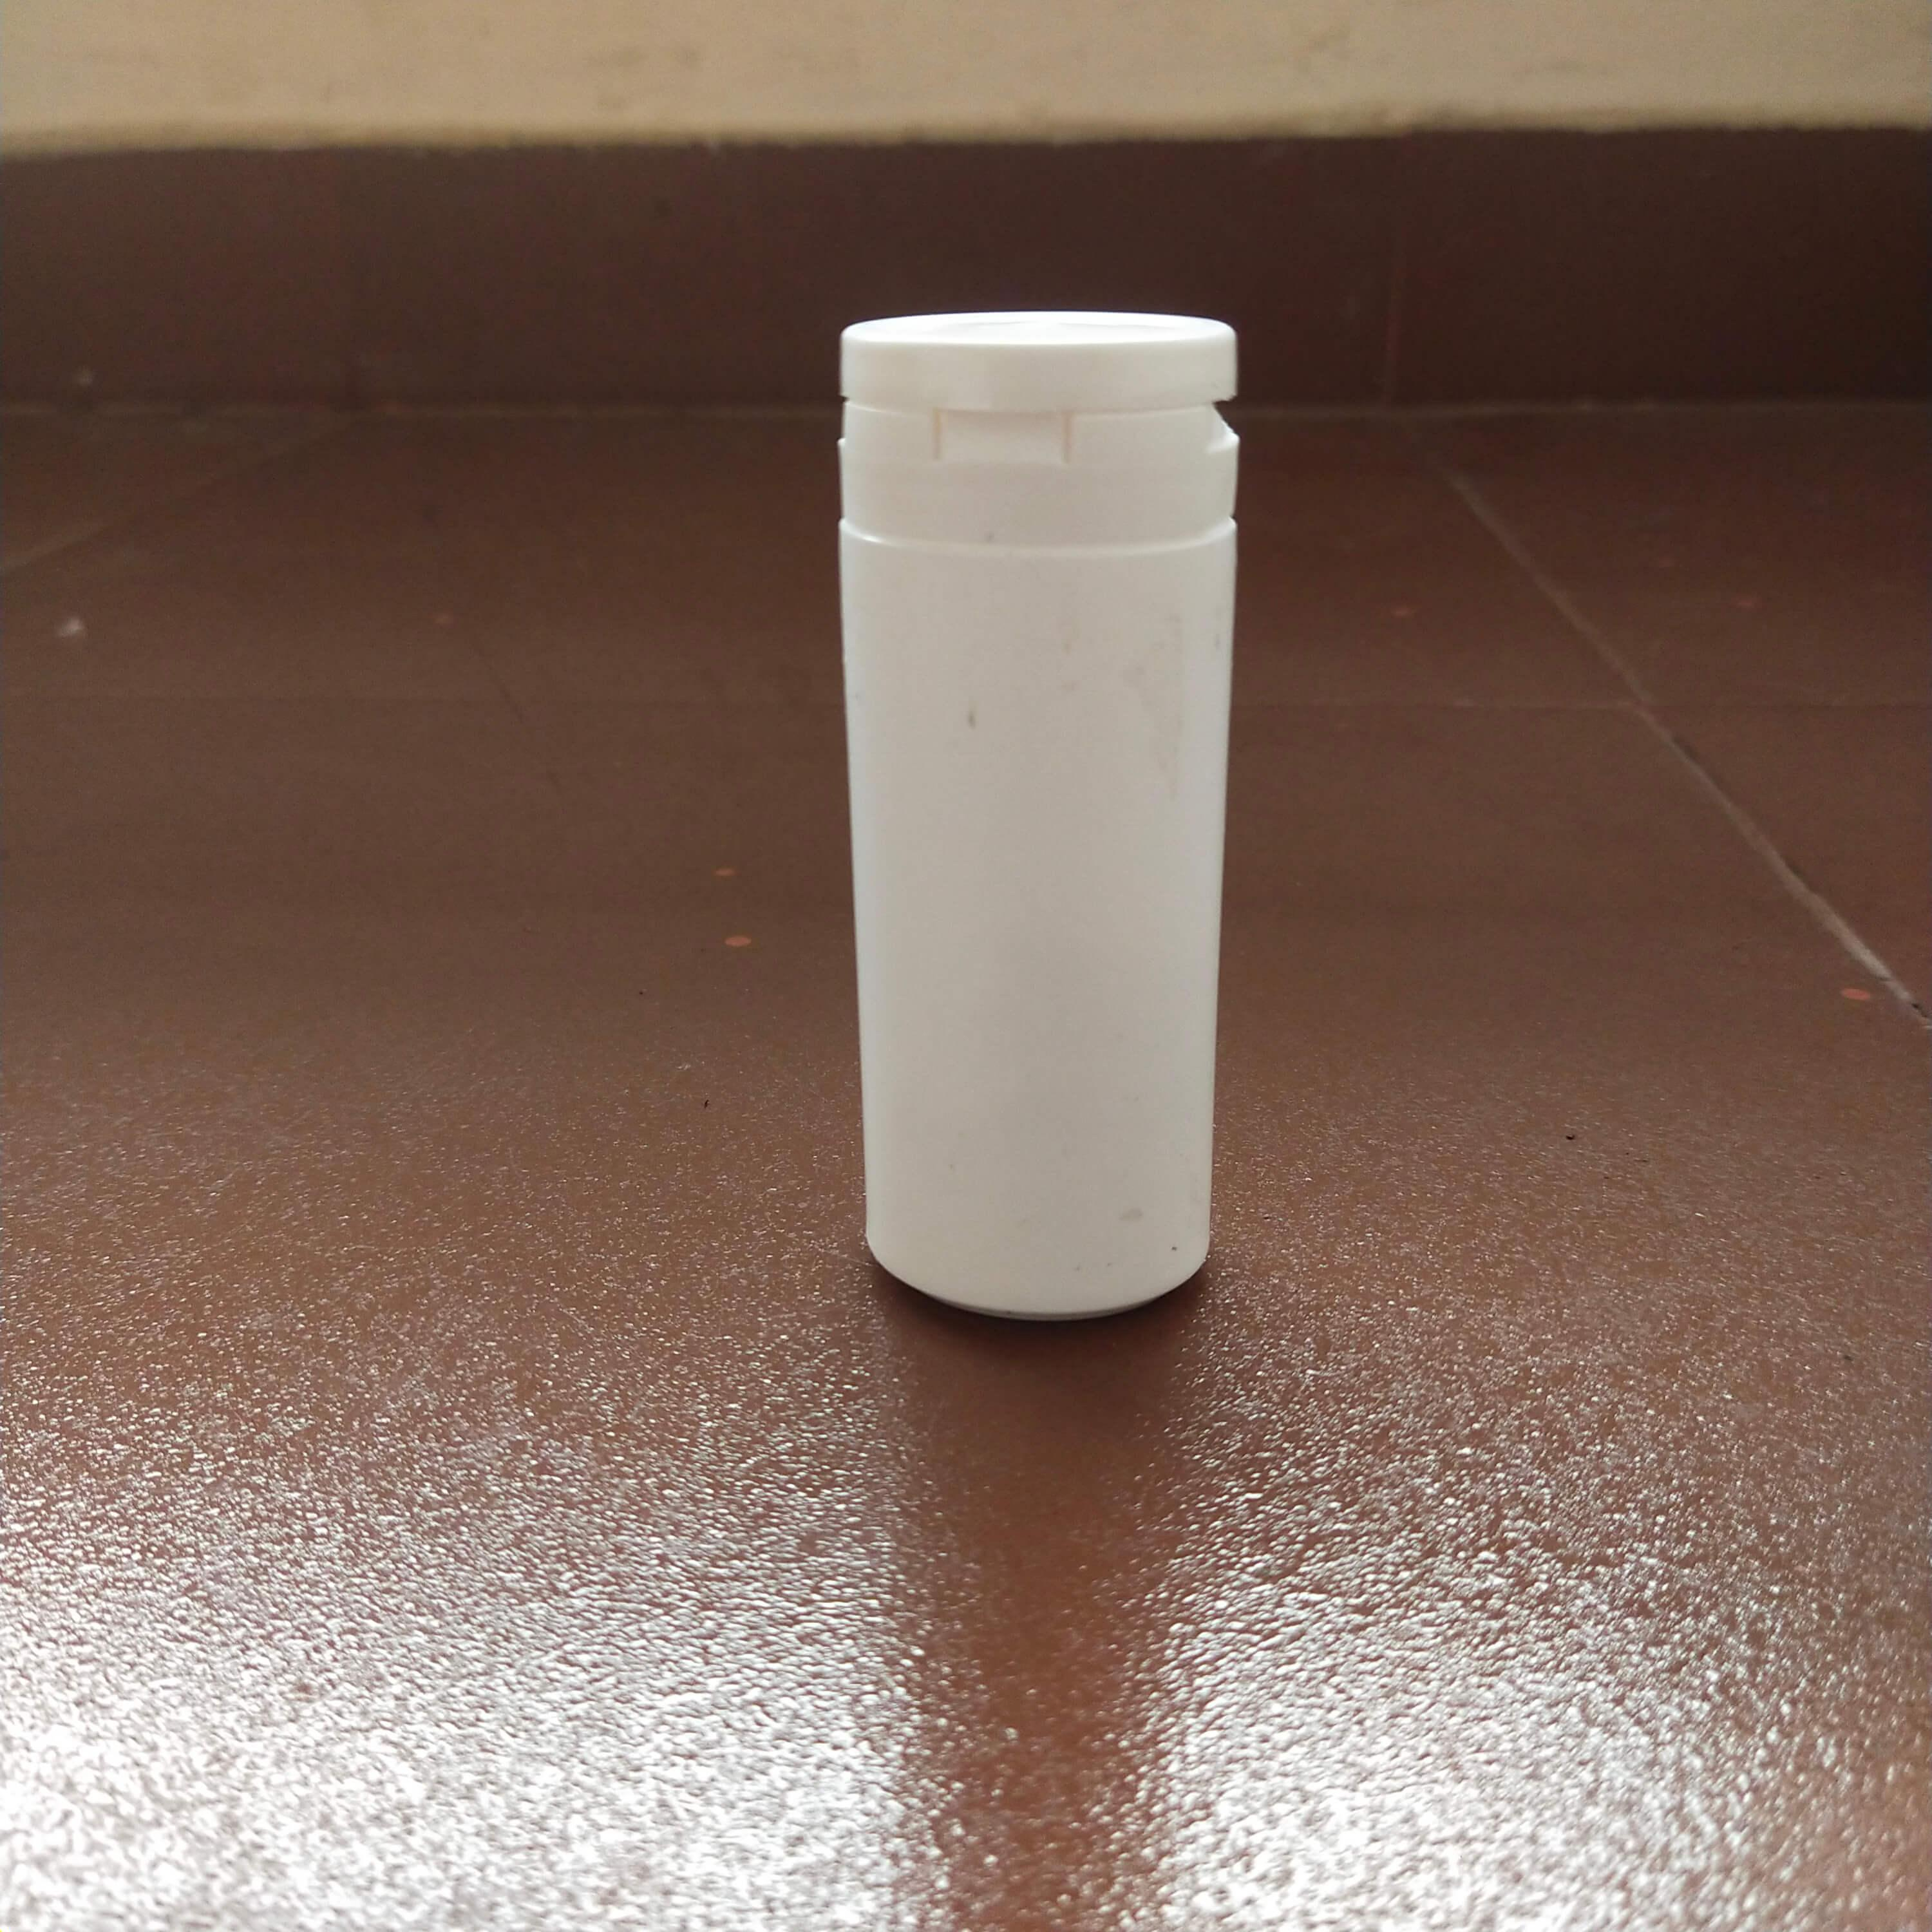plastic box: (816, 274, 1286, 1352)
